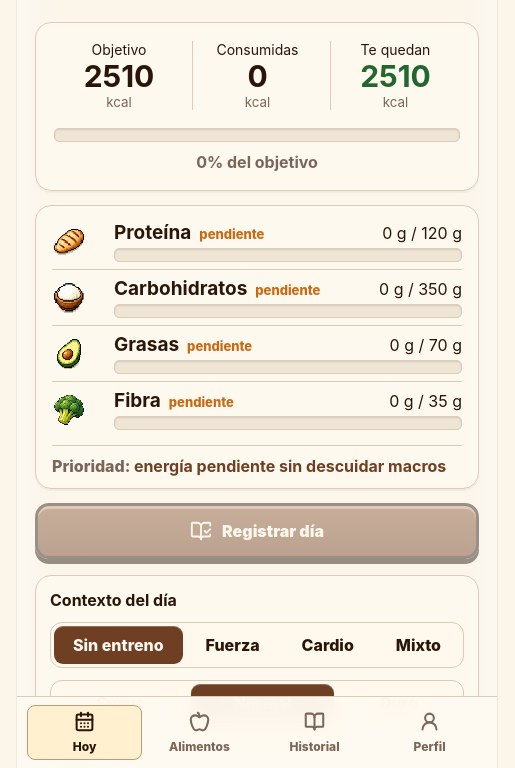
Left2Eat smoke flow › shows profile and history tabs
Click the button "Perfil" at (430,732), box [372, 705, 487, 760]
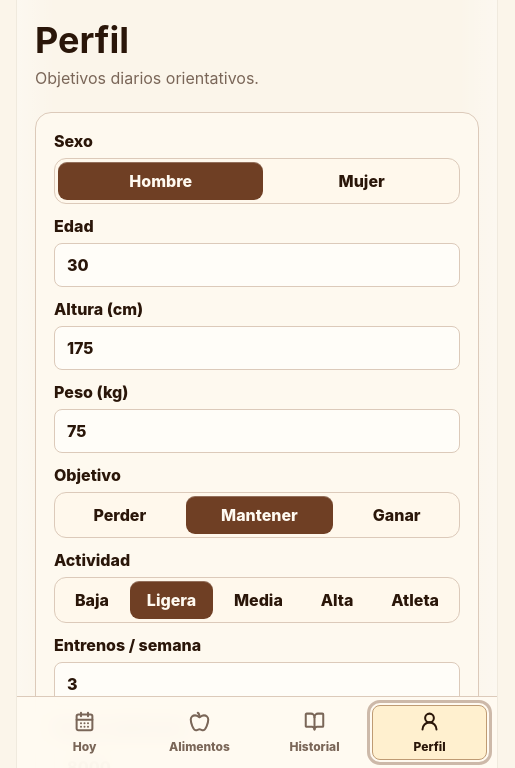
Expected: the heading "Perfil" is shown, [35, 18, 129, 62]
Click the button "Historial" at (314,732), box [257, 705, 372, 760]
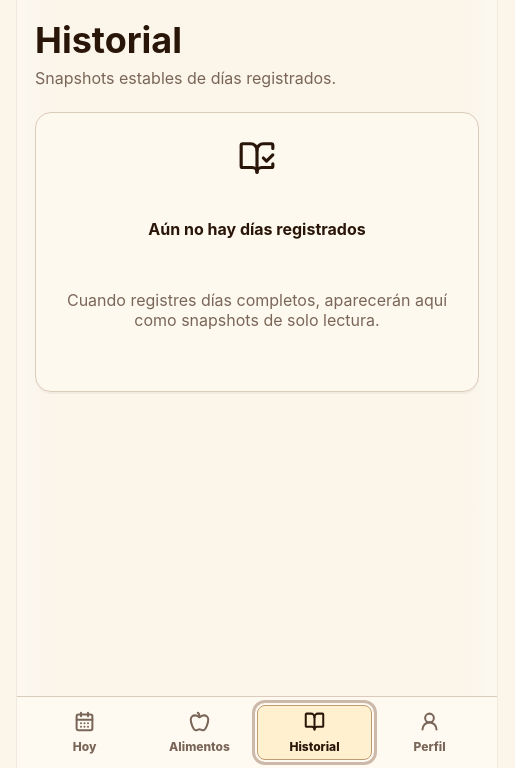
Expected: the heading "Historial" is shown, [35, 18, 182, 62]
Expected: the text "Aún no hay días registrados" is shown, [148, 220, 366, 240]
